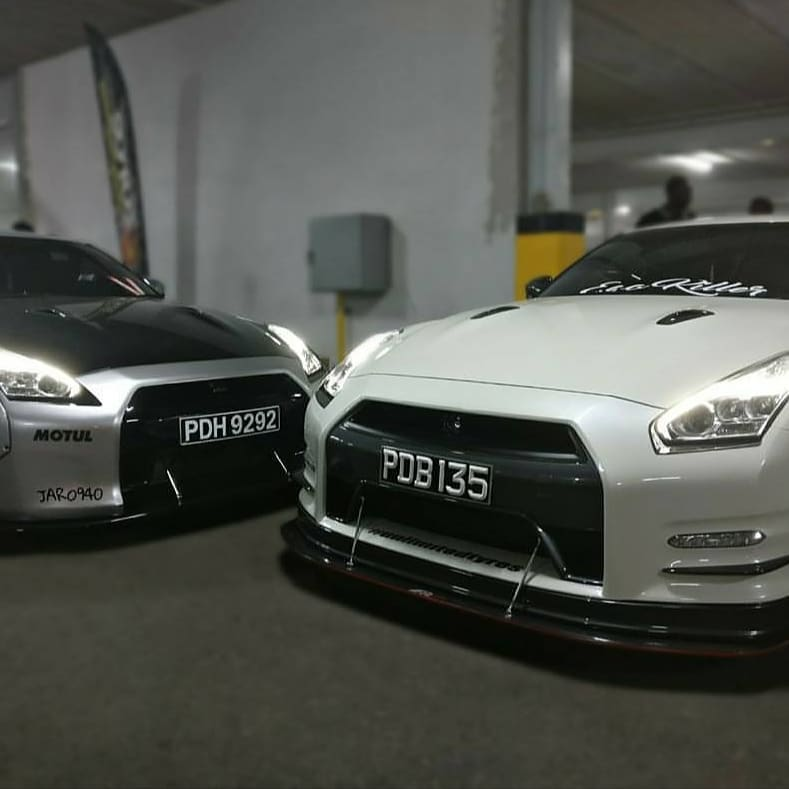License-Plate: (381, 445, 495, 482), (179, 418, 278, 443)
